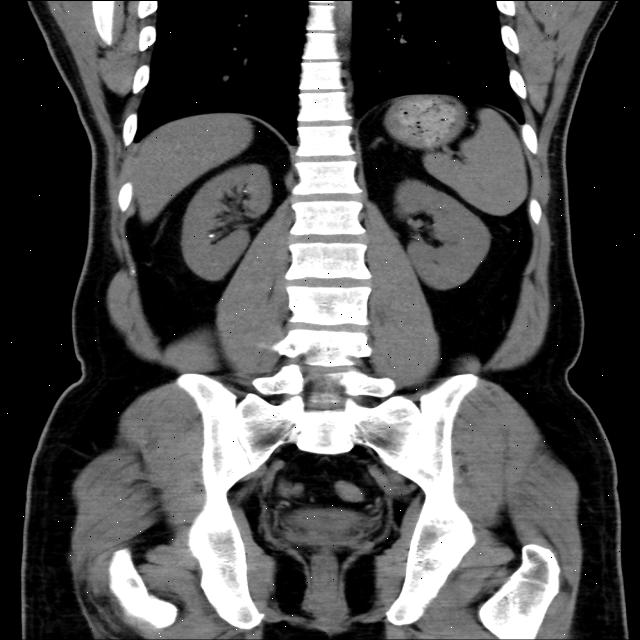kidneystone: (208, 229, 222, 243)
